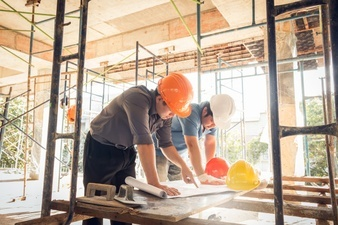white: (203, 94, 235, 130)
yellow: (156, 72, 193, 119)
